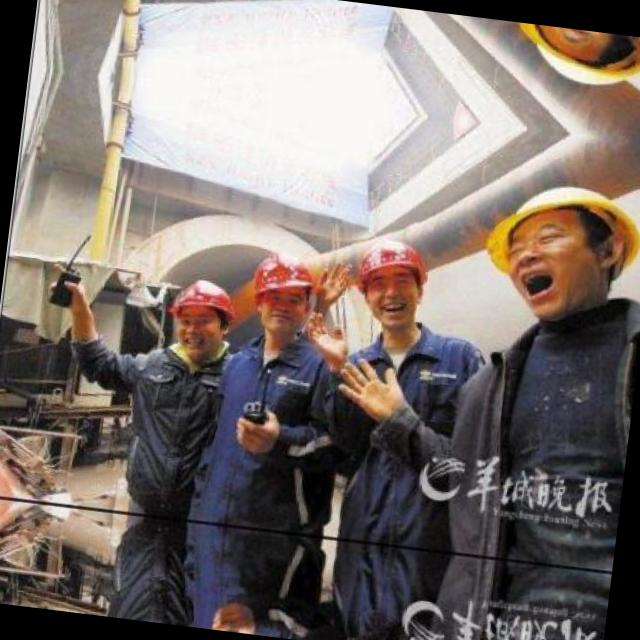helmet: (463, 158, 640, 331), (488, 19, 640, 109), (337, 230, 435, 346), (240, 248, 322, 348), (162, 275, 240, 361)
